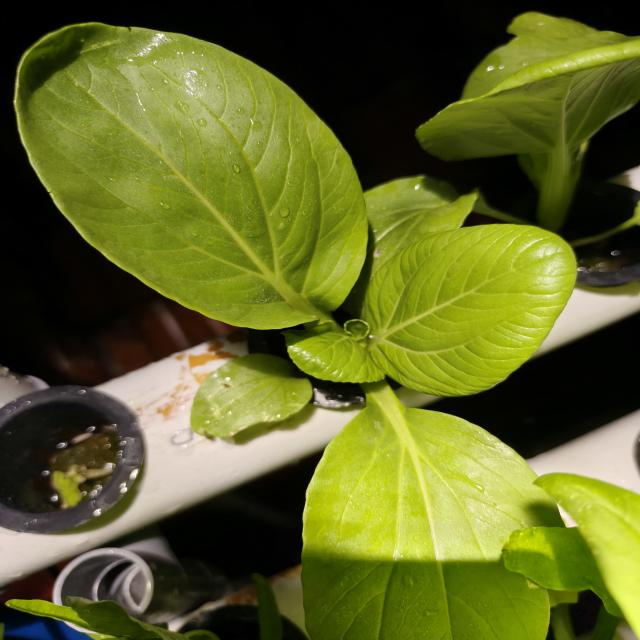daun-pakcoy: (15, 23, 367, 329), (302, 379, 562, 640), (368, 225, 575, 395), (191, 354, 312, 441), (282, 320, 382, 383), (396, 388, 439, 406)
